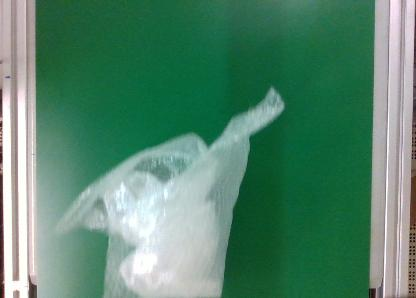Others: (58, 85, 286, 295)
